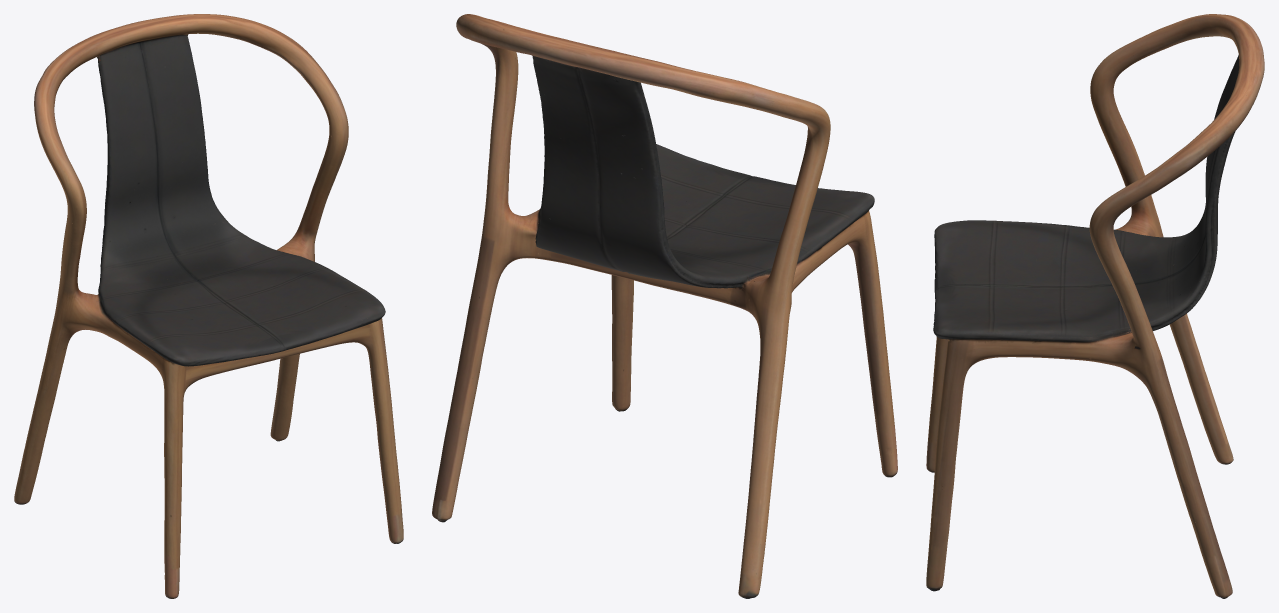
The model's file is 05-arc-walnut-chair.glb.
The picture shows the model from 3 angles, left to right: view 1: azimuth 30°, elevation 25°; view 2: azimuth 150°, elevation 25°; view 3: azimuth 270°, elevation 25°; orthographic projection. The views are drawn at different scales.
Bounding box in the file's own units: 1.36 × 2 × 1.29.
Materials: 1 (1 with a texture image).
